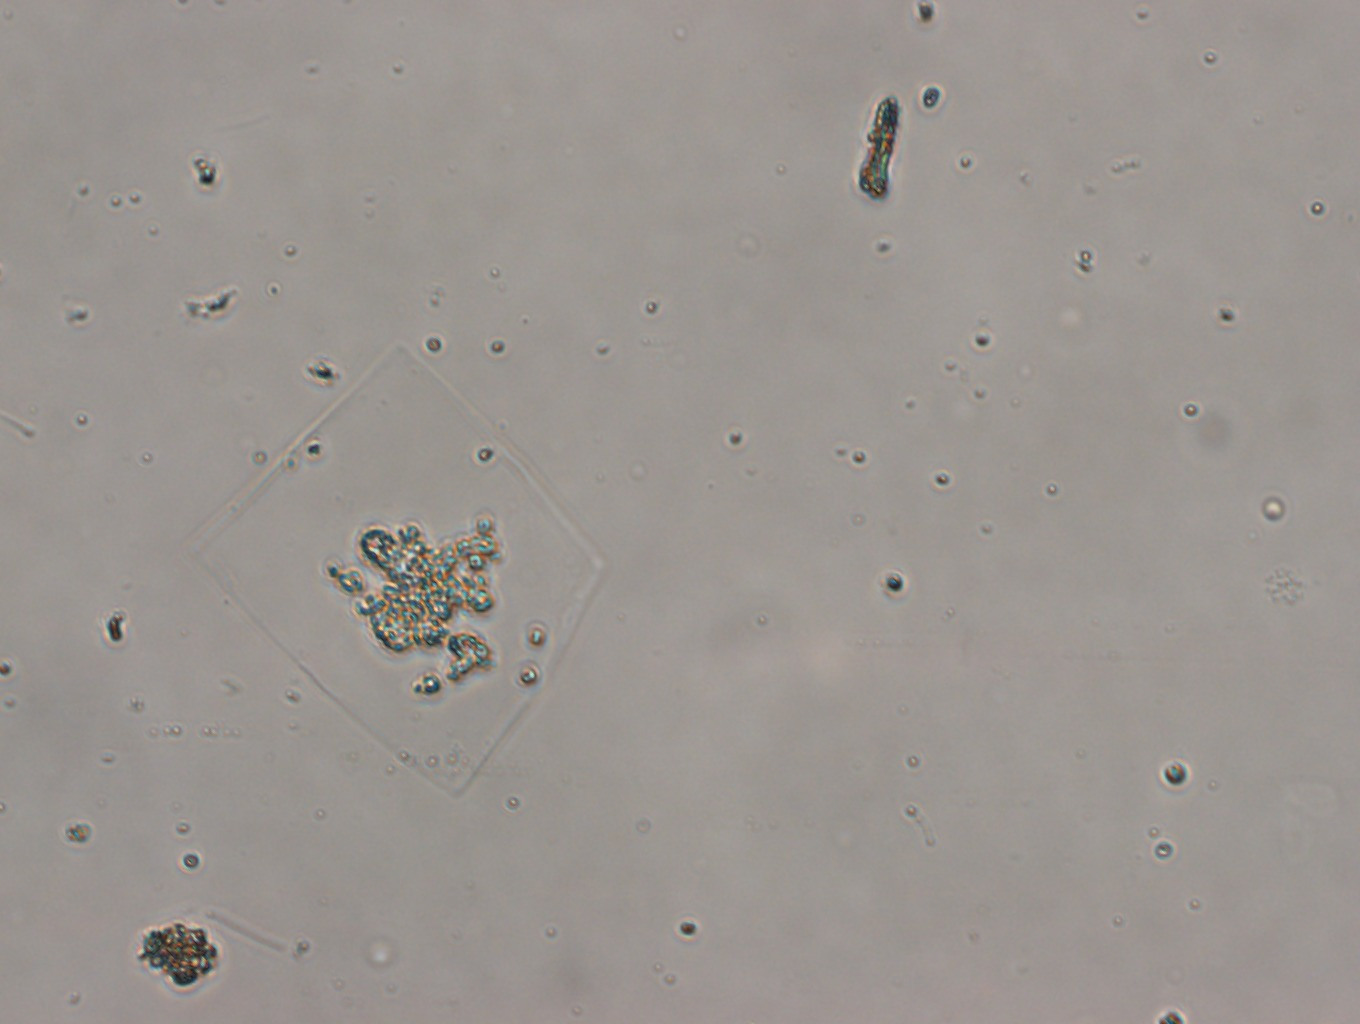helicotheca: (184, 339, 612, 798)
